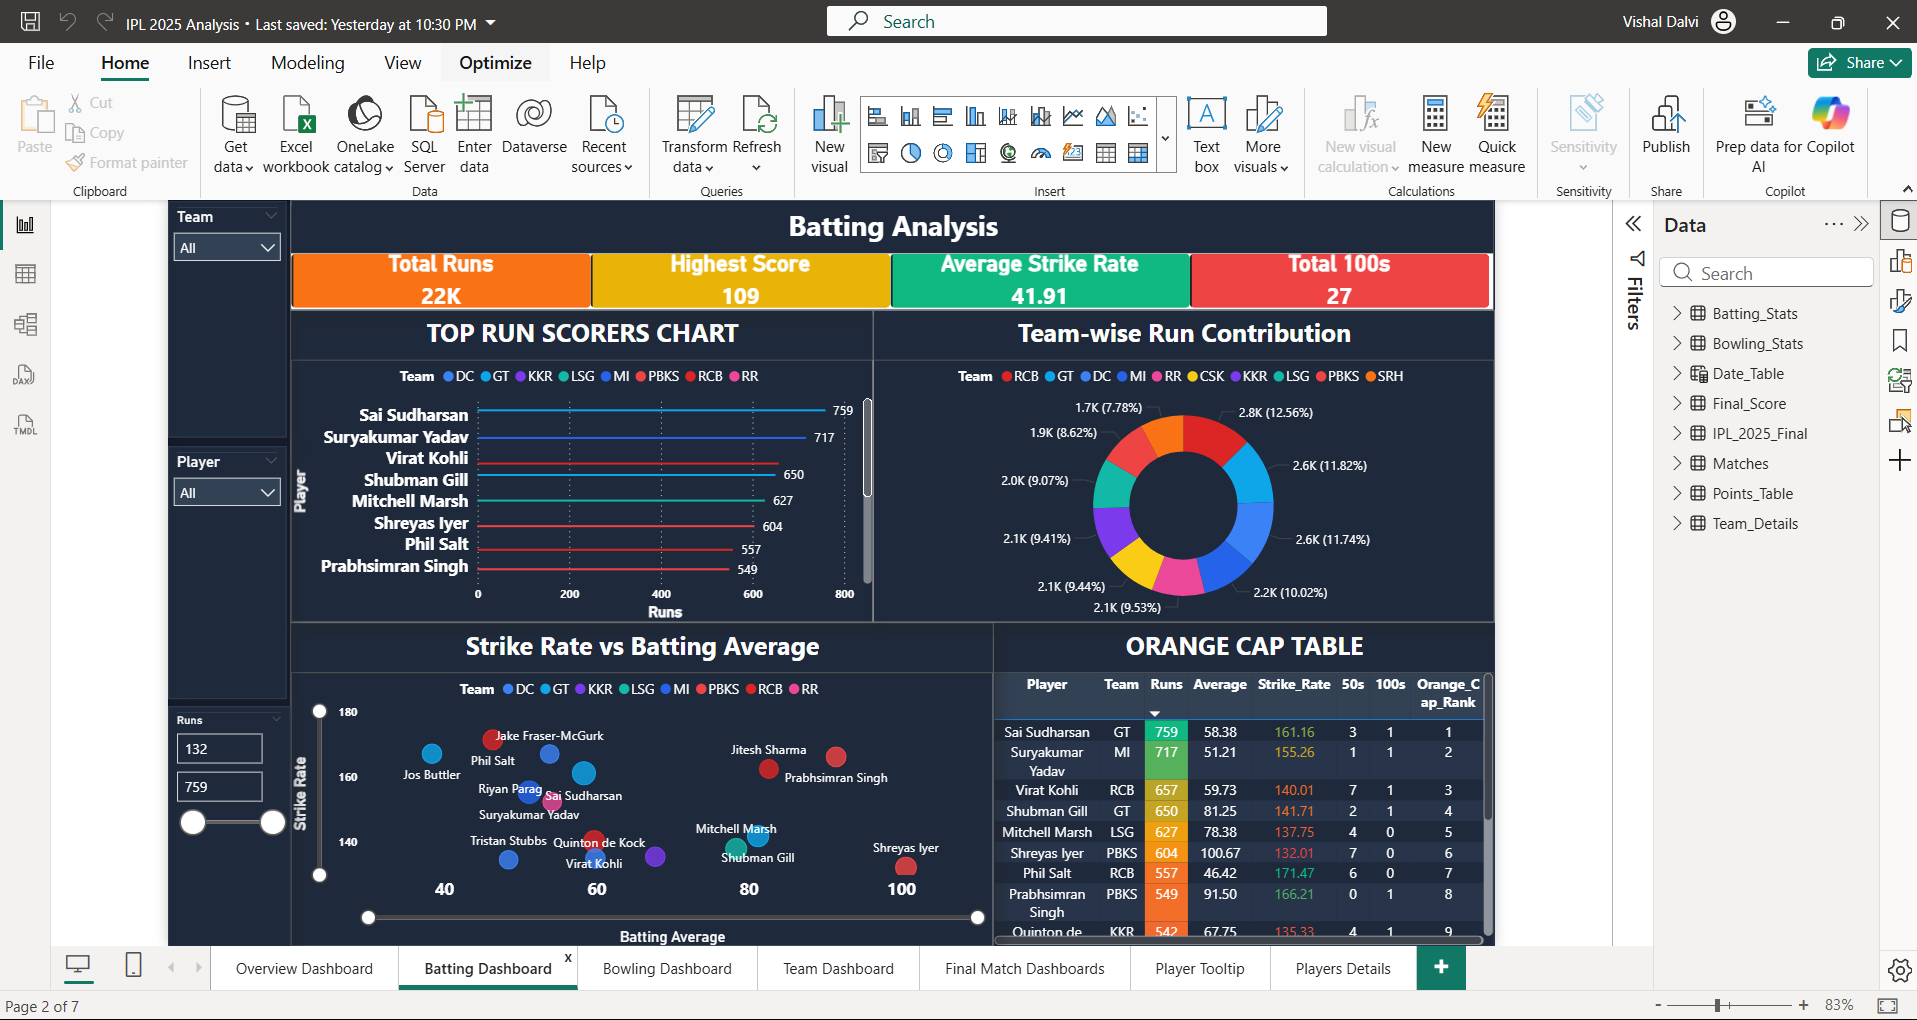

The page's visual inventory and layout, read from the dashboard file:
{"tool":"powerbi","page":{"name":"Batting Dashboard","canvas":[1280,720],"ordinal":1},"visuals":[{"type":"tableEx","title":"ORANGE CAP TABLE","fields":{"Values":["Batting_Stats.Player","Batting_Stats.Team","Sum(Batting_Stats.Runs)","Avg(Batting_Stats.Average)","Avg(Batting_Stats.Strike_Rate)","Sum(Batting_Stats.50s)","Sum(Batting_Stats.100s)","Min(Batting_Stats.Orange_Cap_Rank)"]},"box":[796.3,407.8,483.8,312.5],"z":0},{"type":"scatterChart","title":"Strike Rate vs Batting Average","fields":{"X":["Avg(Batting_Stats.Average)"],"Y":["Avg(Batting_Stats.Strike_Rate)"],"Size":["Sum(Batting_Stats.Runs)"],"Series":["Batting_Stats.Team"],"Category":["Batting_Stats.Player"]},"box":[118.2,407.8,678,312.5],"z":1000},{"type":"clusteredBarChart","title":"TOP RUN SCORERS CHART","fields":{"Category":["Batting_Stats.Player"],"Y":["Sum(Batting_Stats.Runs)"],"Series":["Batting_Stats.Team"]},"box":[118.2,106.2,562.2,301.6],"z":2000},{"type":"slicer","fields":{"Values":["Batting_Stats.Team"]},"box":[0,1.2,114.6,228],"z":3000},{"type":"slicer","fields":{"Values":["Batting_Stats.Player"]},"box":[0,237.7,114.6,243.7],"z":4000},{"type":"slicer","fields":{"Values":["Batting_Stats.Runs"]},"box":[0,488.6,118.2,231.6],"z":5000},{"type":"cardVisual","title":"Batting Analysis","fields":{"Data":["Matches.Total Runs","Batting_Stats.Highest Score","Matches.Average Strike Rate","Batting_Stats.Total 100s"]},"box":[118.2,0,1161.8,106.2],"z":6000},{"type":"donutChart","title":"Team-wise Run Contribution","fields":{"Category":["Batting_Stats.Team"],"Y":["Sum(Batting_Stats.Runs)"]},"box":[680.4,106.2,599.6,301.6],"z":7000}]}

Visuals, with their boxes on the page's 1280x720 design canvas (x1, y1, x2, y2). These are canvas units, not pixel positions in the 1917x1020 screenshot, which may show the page scaled, cropped or inside an application window:
"ORANGE CAP TABLE" tableEx: [796,408,1280,720]
"Strike Rate vs Batting Average" scatterChart: [118,408,796,720]
"TOP RUN SCORERS CHART" clusteredBarChart: [118,106,680,408]
slicer - Batting_Stats.Team: [0,1,115,229]
slicer - Batting_Stats.Player: [0,238,115,481]
slicer - Batting_Stats.Runs: [0,489,118,720]
"Batting Analysis" cardVisual: [118,0,1280,106]
"Team-wise Run Contribution" donutChart: [680,106,1280,408]
